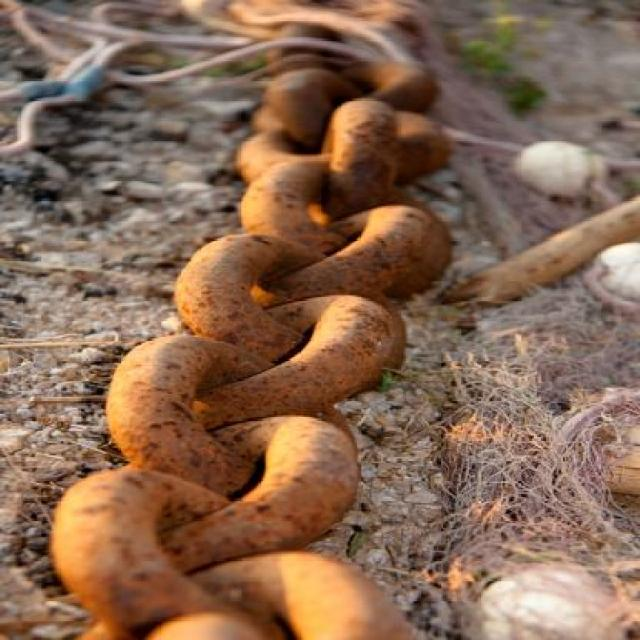corrosion: (57, 0, 455, 640)
